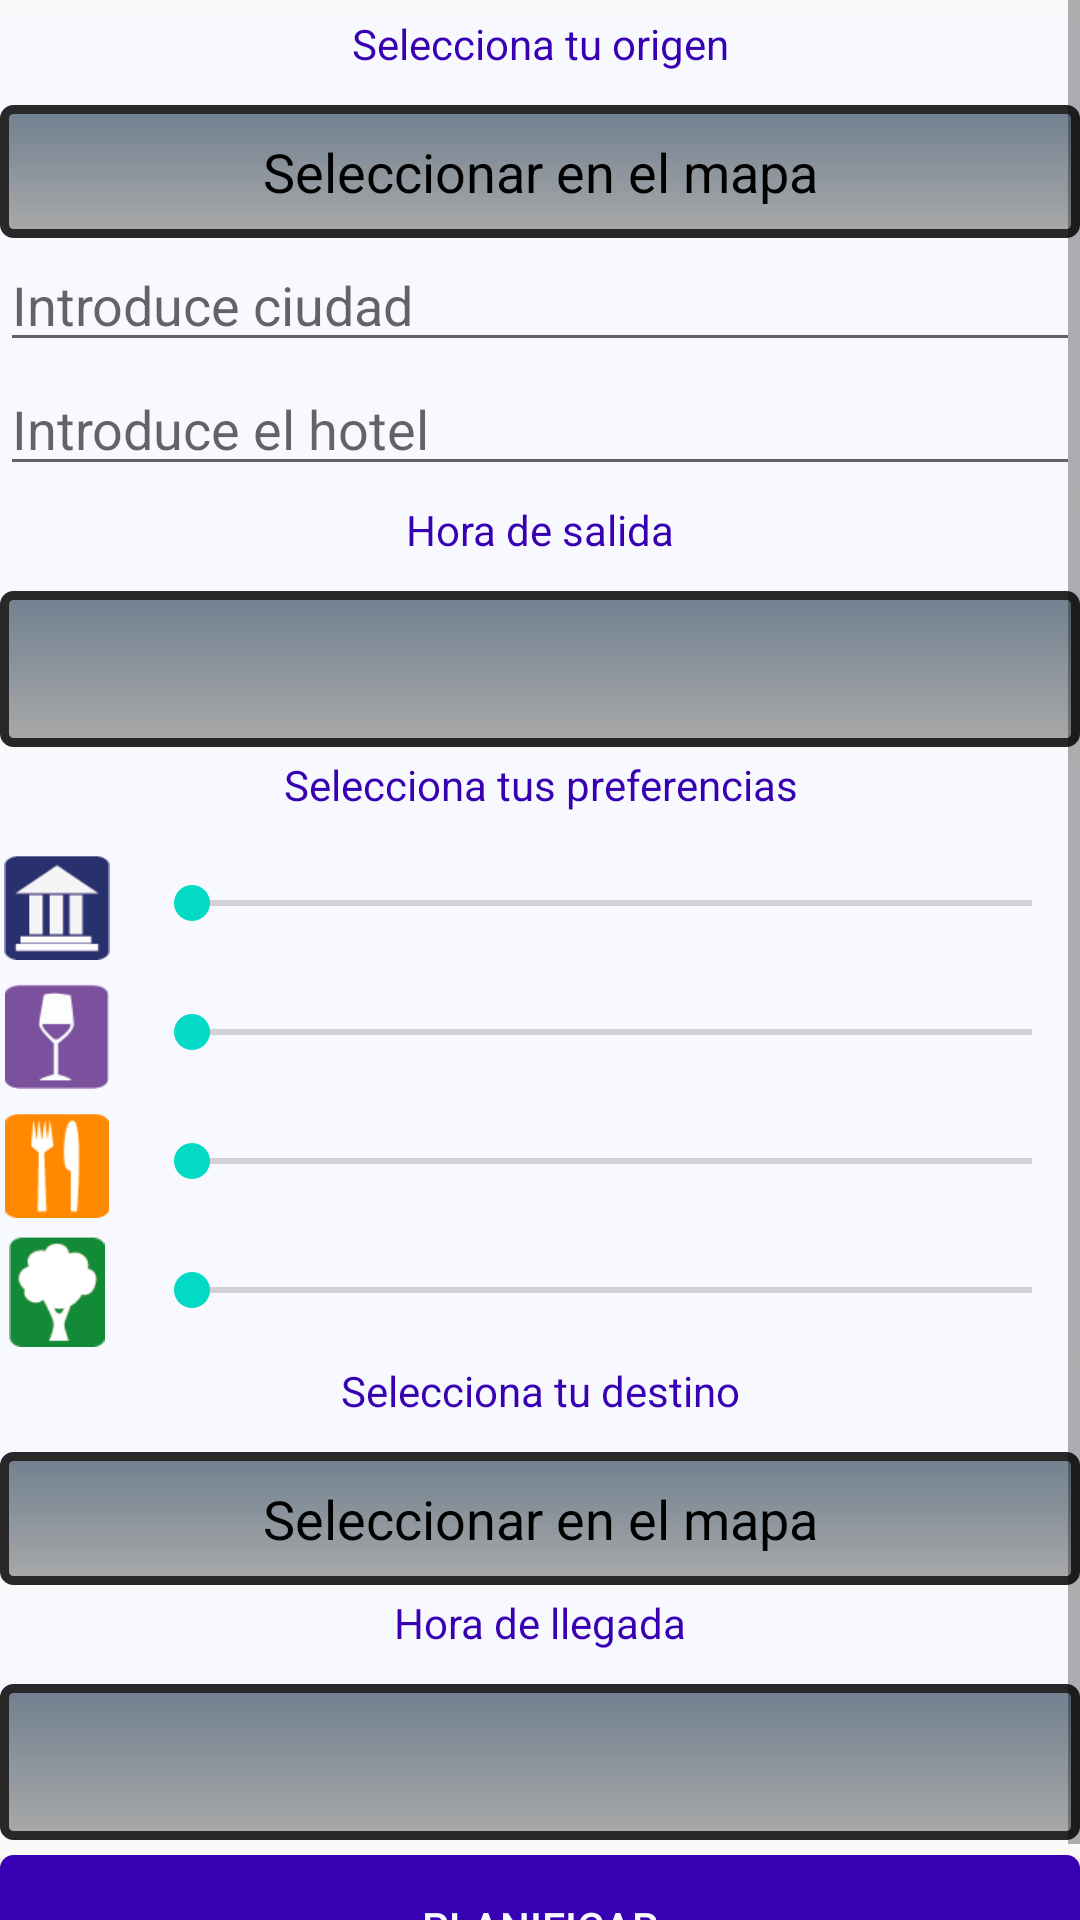

Named icons in this screenshot (1080 × 1920) and their bounding boxes, box(x1, y1, x2, y2):
culture: box(4, 856, 110, 960)
gastronomy: box(5, 1114, 109, 1218)
leisure: box(5, 985, 109, 1089)
nature: box(9, 1237, 105, 1347)
